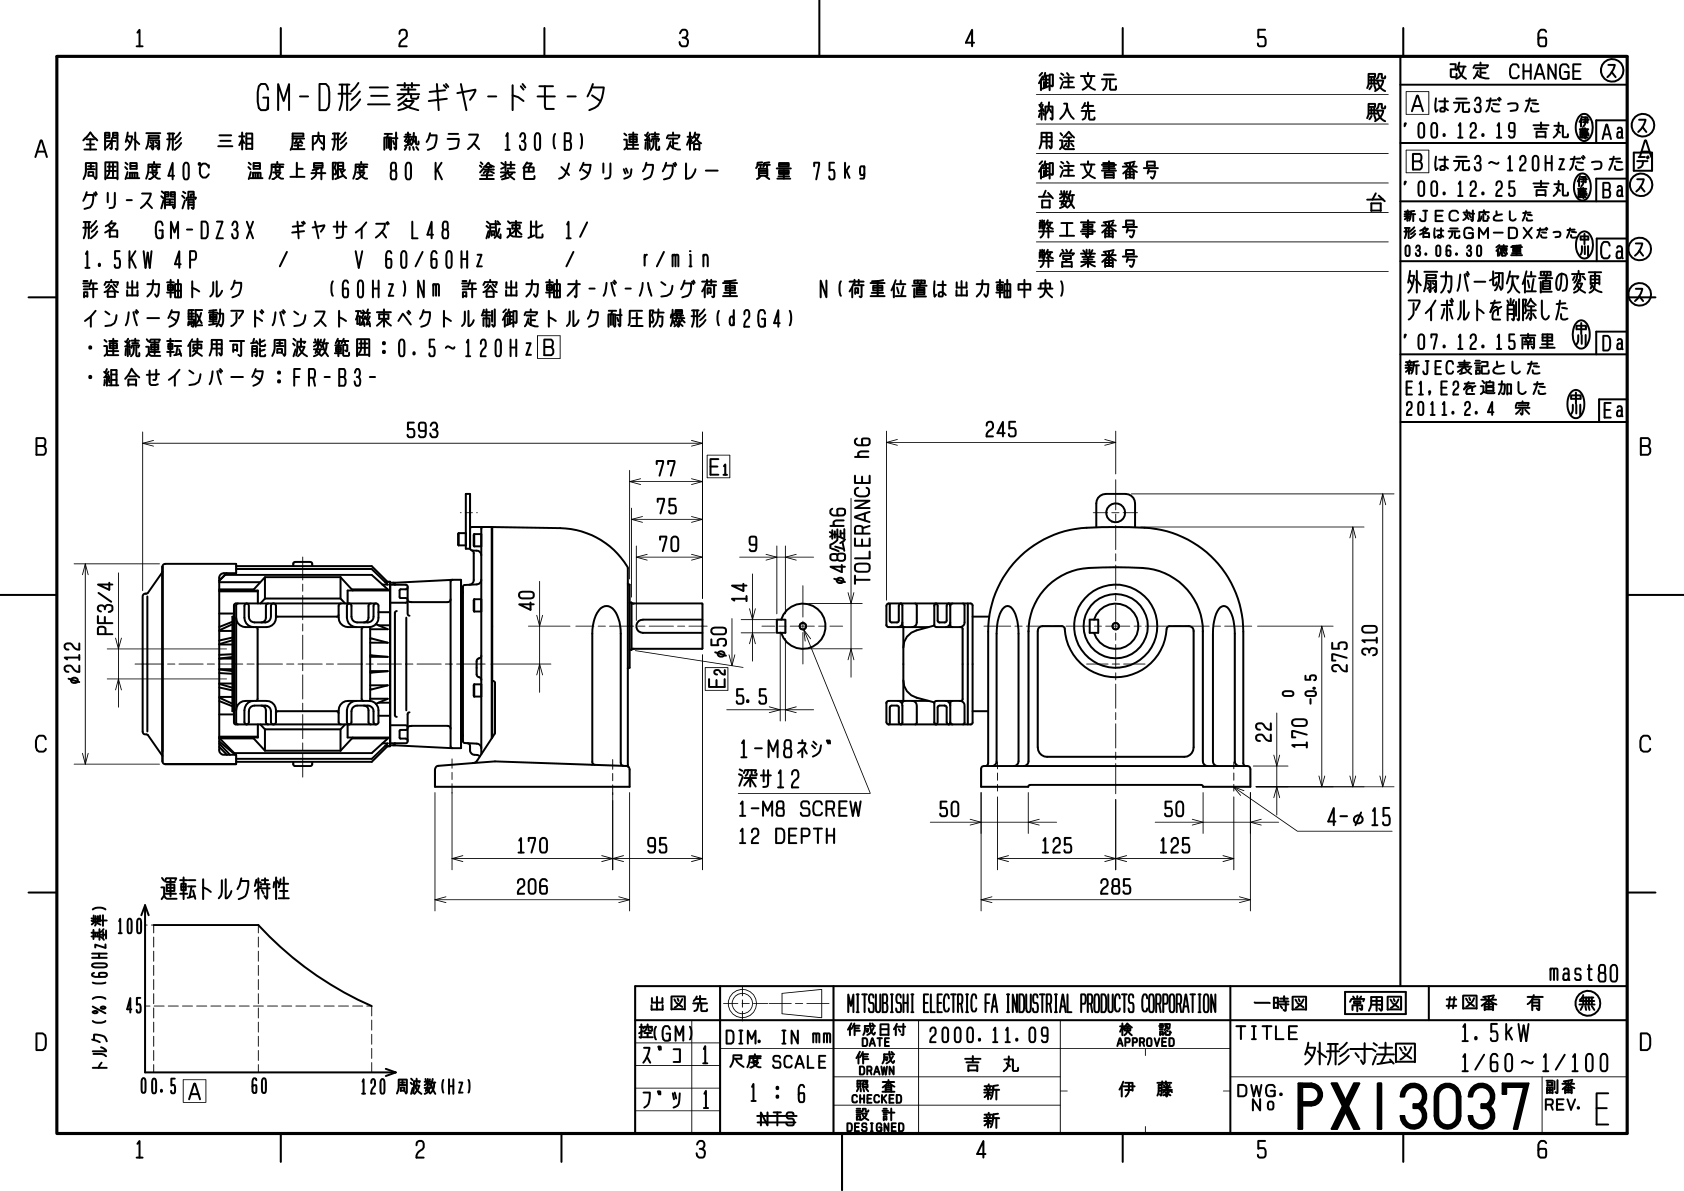GM_D_制御屋内_三相_脚: (61, 409, 1395, 978)
